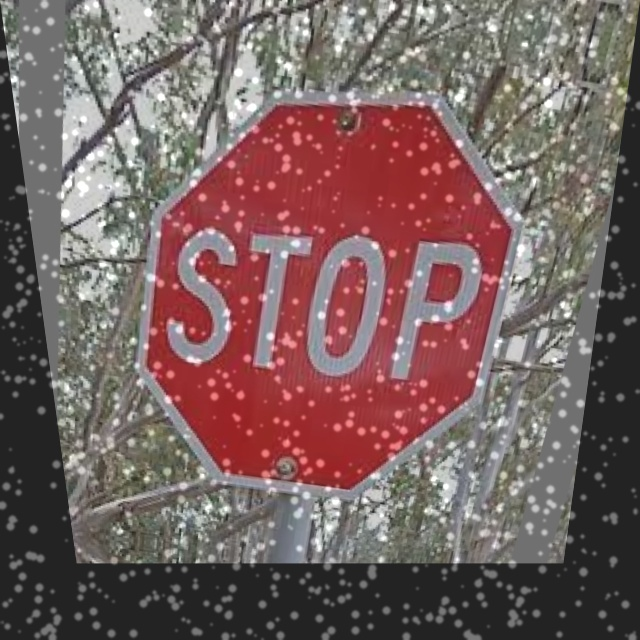Stop: (93, 52, 556, 513)
